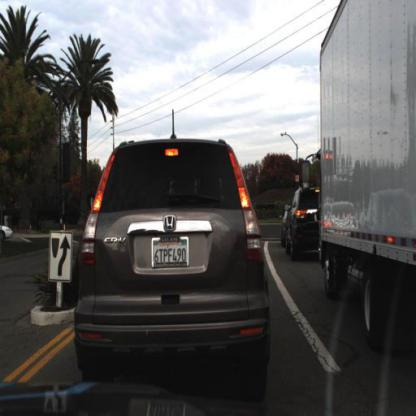car: (77, 136, 270, 391), (285, 187, 326, 258), (1, 221, 15, 244)
truck: (319, 1, 416, 353)
